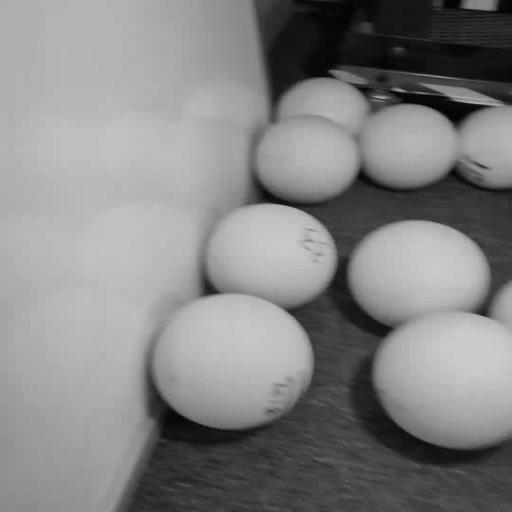fuel: (151, 203, 337, 429), (347, 220, 512, 450), (254, 78, 369, 204), (362, 104, 512, 189)
